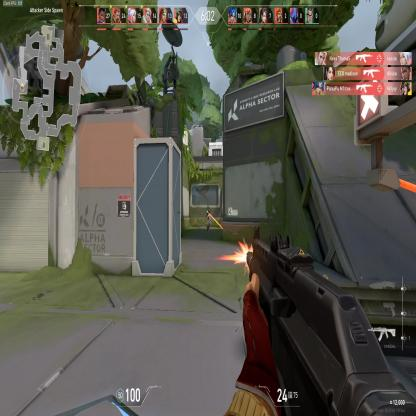enemy: (205, 209, 212, 235)
